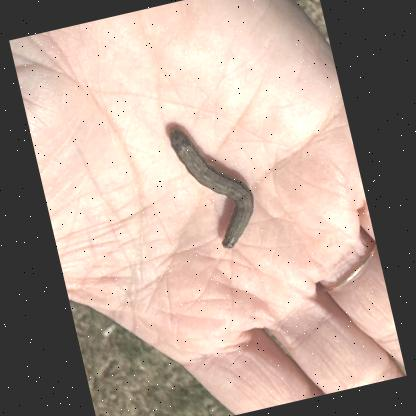Fall Armyworm Larvae: (162, 109, 266, 259)
